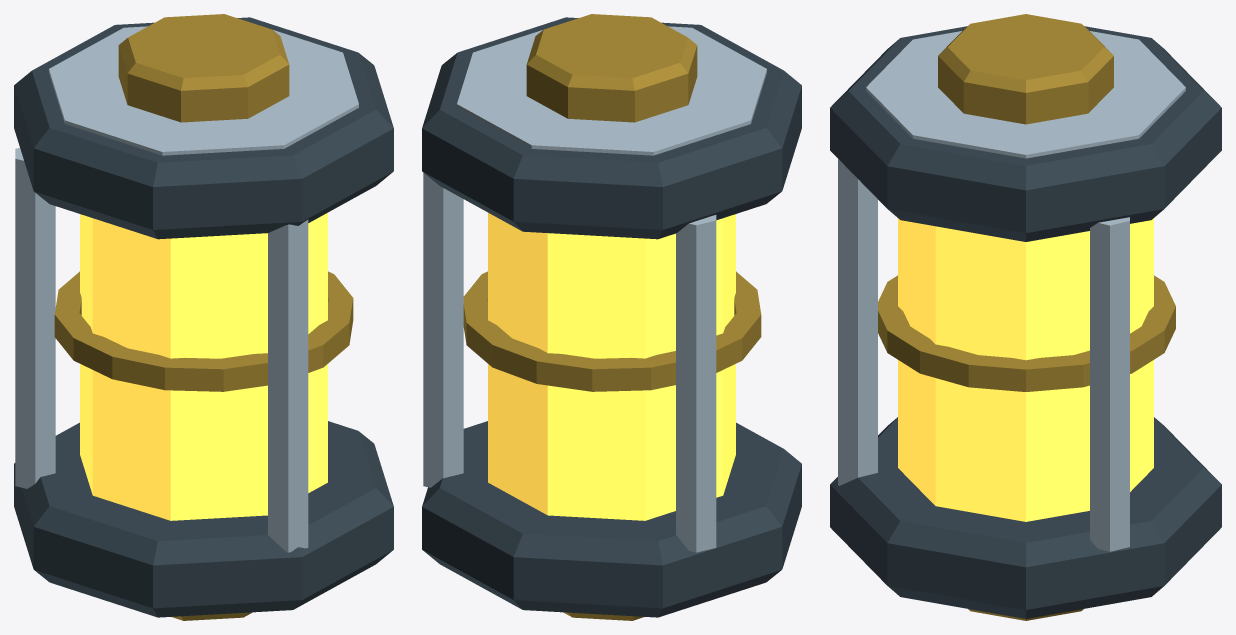
The model's file is loot_energy.glb.
3 views of the same model, side by side, from view 1: azimuth 30°, elevation 25°; view 2: azimuth 150°, elevation 25°; view 3: azimuth 270°, elevation 25° (orthographic).
Parts seen in each view (by area): view 1: loot_energy; view 2: loot_energy; view 3: loot_energy.
Boxes of the visible parts, bbox=[...] form: loot_energy: bbox=[14, 14, 393, 620]; loot_energy: bbox=[422, 14, 801, 620]; loot_energy: bbox=[830, 14, 1221, 620].
Size of the model in its own units: 0.6099 by 0.9285 by 0.6099.
